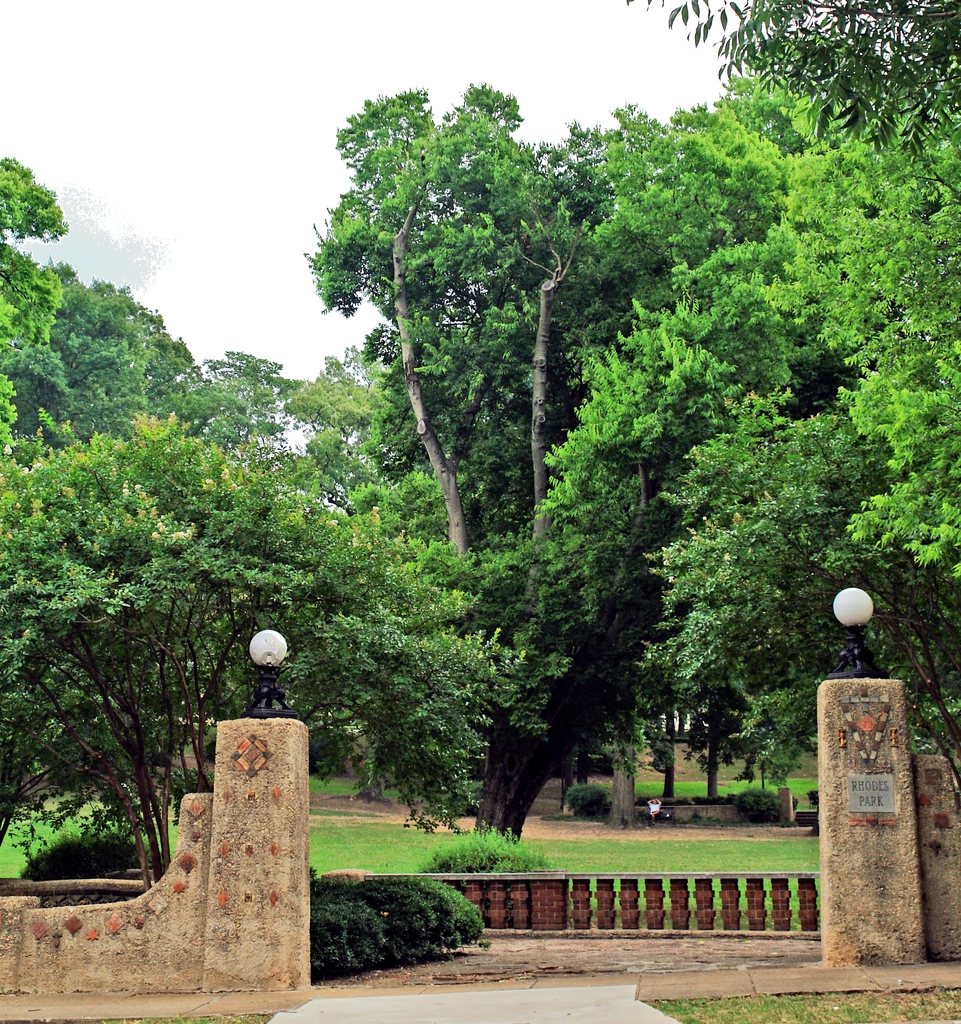Tree: (0, 0, 960, 896)
